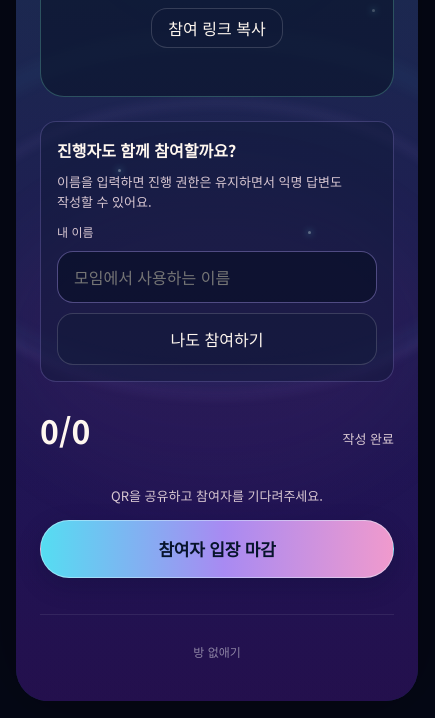
Test case: 익명 자기소개 나눔 › 진행자는 확인 후 실수로 만든 방을 없애고 시작 화면으로 나간다
The width and height of the screenshot is (435, 718).
(page scrolled)
Click the button "방 없애기": (217, 652) top-left (181, 635), bottom-right (253, 669)
(page scrolled)
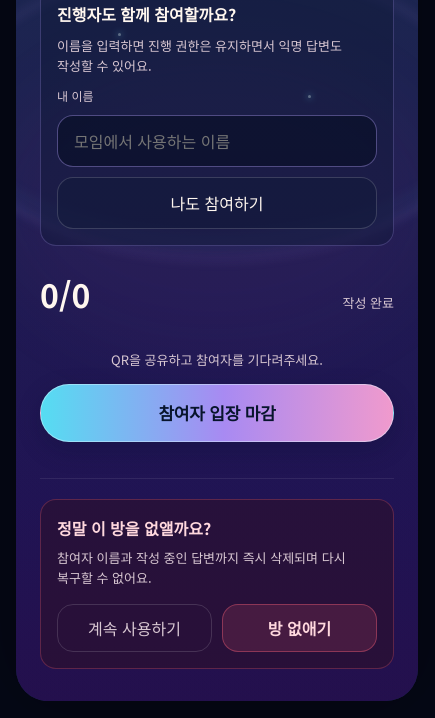
Check: the text "정말 이 방을 없앨까요?" is shown, box top-left (57, 516), bottom-right (211, 540)
Click the button "방 없애기": (300, 628) top-left (222, 604), bottom-right (377, 652)
(page scrolled)
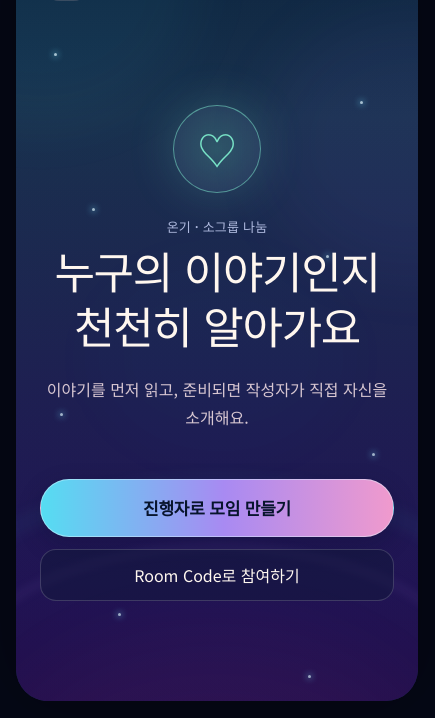
Check: the button "진행자로 모임 만들기" is shown, box top-left (40, 479), bottom-right (394, 537)
